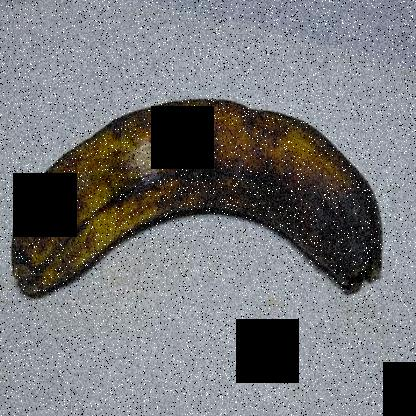overripe: (3, 85, 392, 354)
